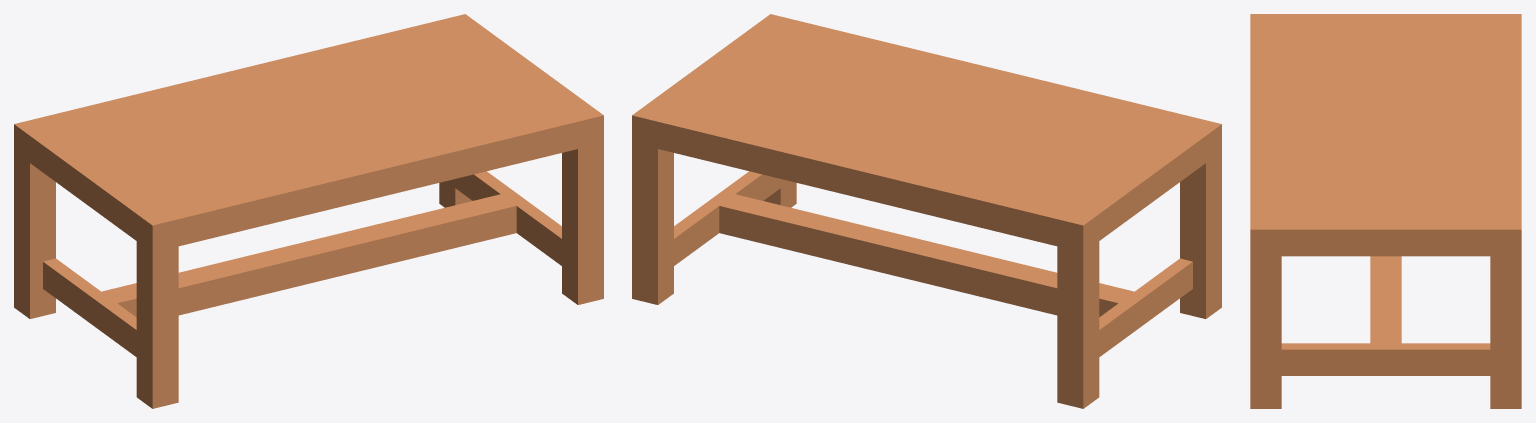
Rendered from Table.glb.
3 views of the same model, side by side, from view 1: azimuth 30°, elevation 25°; view 2: azimuth 150°, elevation 25°; view 3: azimuth 270°, elevation 25° (orthographic). The views are drawn at different scales.
Parts seen in each view (by area): view 1: table(Clone); view 2: table(Clone); view 3: table(Clone).
Boxes of the visible parts, x1,y1,x2,y2 form: table(Clone): [14, 14, 603, 408]; table(Clone): [632, 14, 1221, 408]; table(Clone): [1250, 14, 1521, 408].
Bounding box in the file's own units: 0.8415 × 0.3267 × 0.4474.
